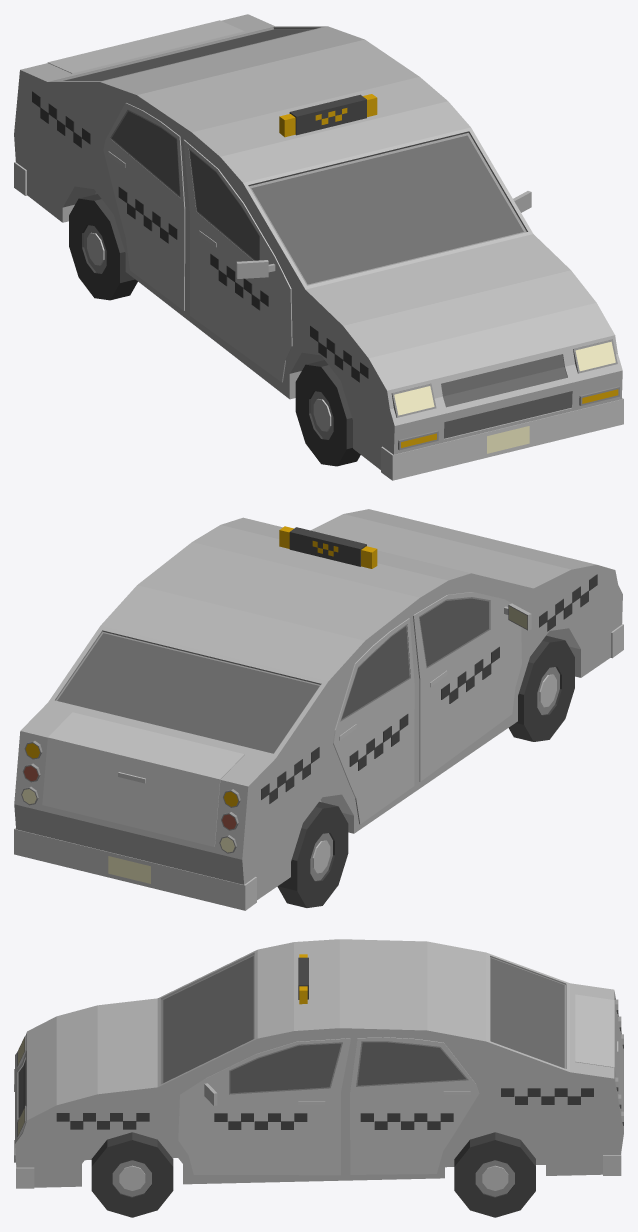
The model's file is Taxi_2.fbx.
3 views of the same model, one above another, from view 1: azimuth 30°, elevation 25°; view 2: azimuth 150°, elevation 25°; view 3: azimuth 270°, elevation 25° (orthographic). The views are drawn at different scales.
Parts seen in each view (by area): view 1: et_1, Cylinder_2_1, Cylinder_2_1_2; view 2: et_1, Cylinder_2_1, Cylinder_2_1_2; view 3: et_1, Cylinder_2_2, Cylinder_2.
Part boxes in pixels (x1,y1,x2,y2): et_1: (14, 14, 623, 480); Cylinder_2_1: (69, 194, 137, 300); Cylinder_2_1_2: (295, 360, 360, 466); et_1: (14, 509, 623, 910); Cylinder_2_1: (277, 801, 348, 907); Cylinder_2_1_2: (509, 635, 574, 741); et_1: (14, 939, 623, 1188); Cylinder_2_2: (91, 1132, 173, 1217); Cylinder_2: (454, 1132, 535, 1217).
Bounding box in the file's own units: 169 × 138 × 379.
